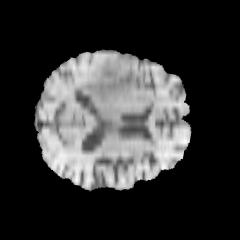glioma: (79, 58, 133, 100)
